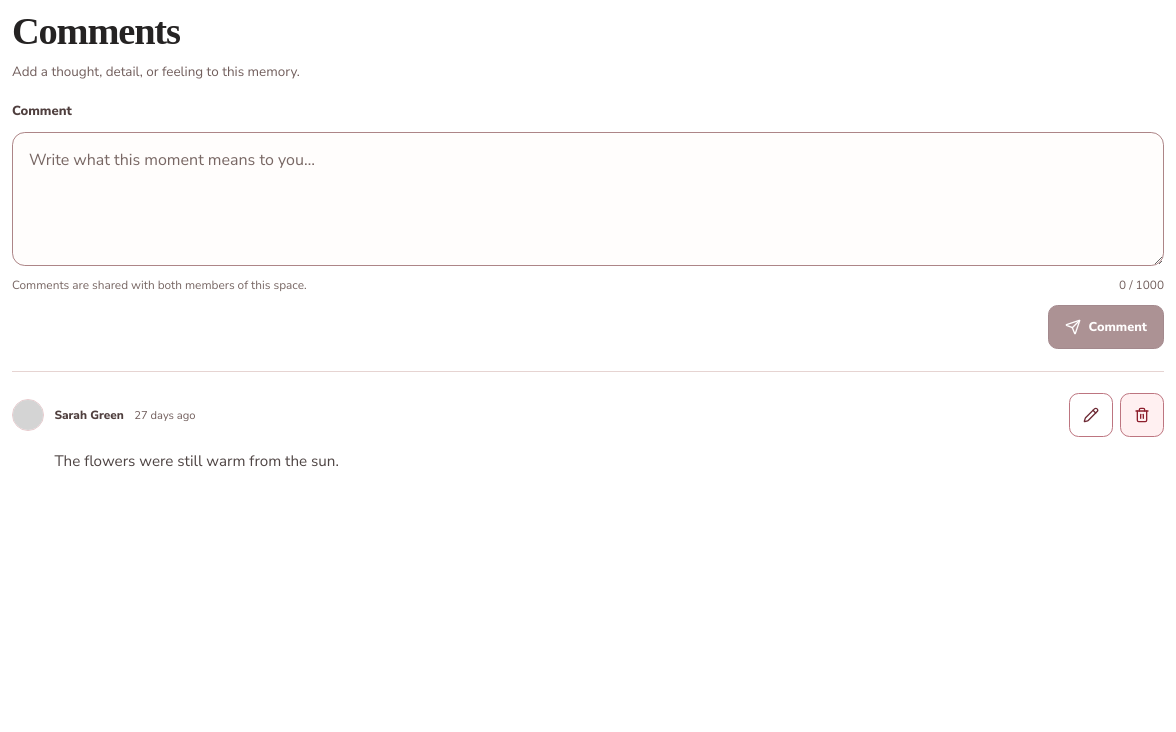
it: MemoryComments › preserves an outdated draft until the author refreshes or cancels
The image size is (1176, 732).
Click the button named "Edit". click: coordinates (1091, 415)
box: [1069, 393, 1113, 437]
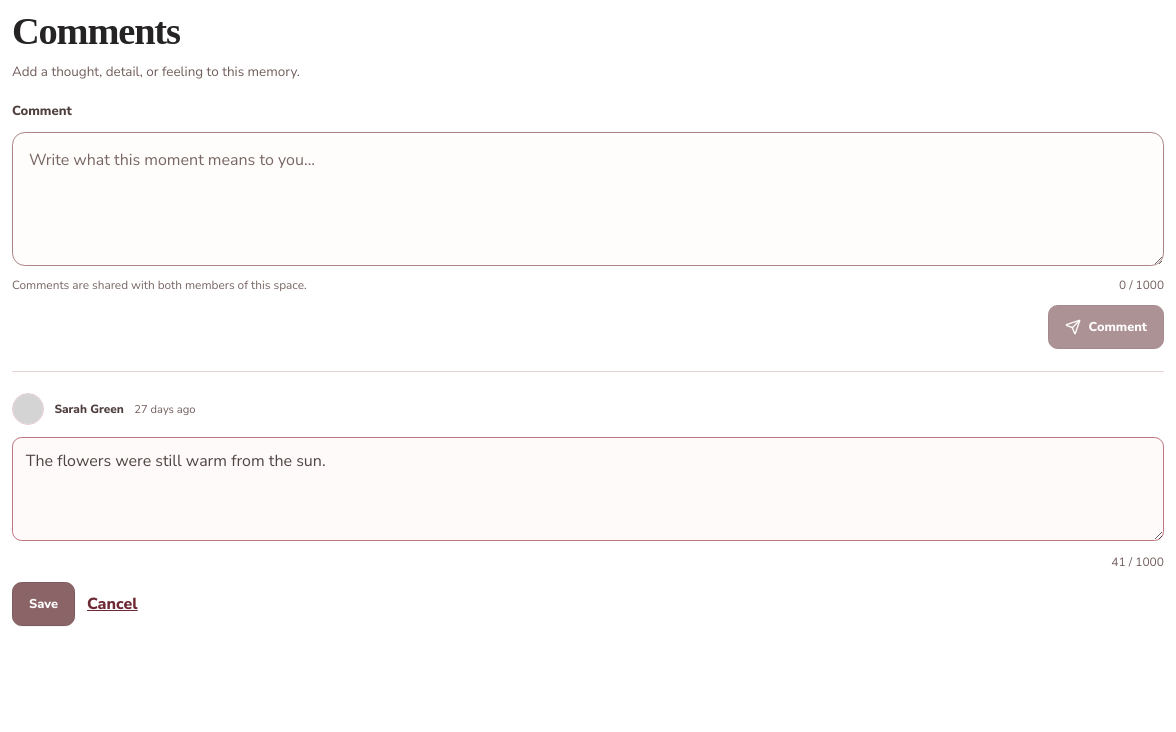
Replace the text in the text box named "Edit comment by Sarah Green" with "My preserved draft.". click: coordinates (588, 489)
box: [12, 437, 1164, 541]
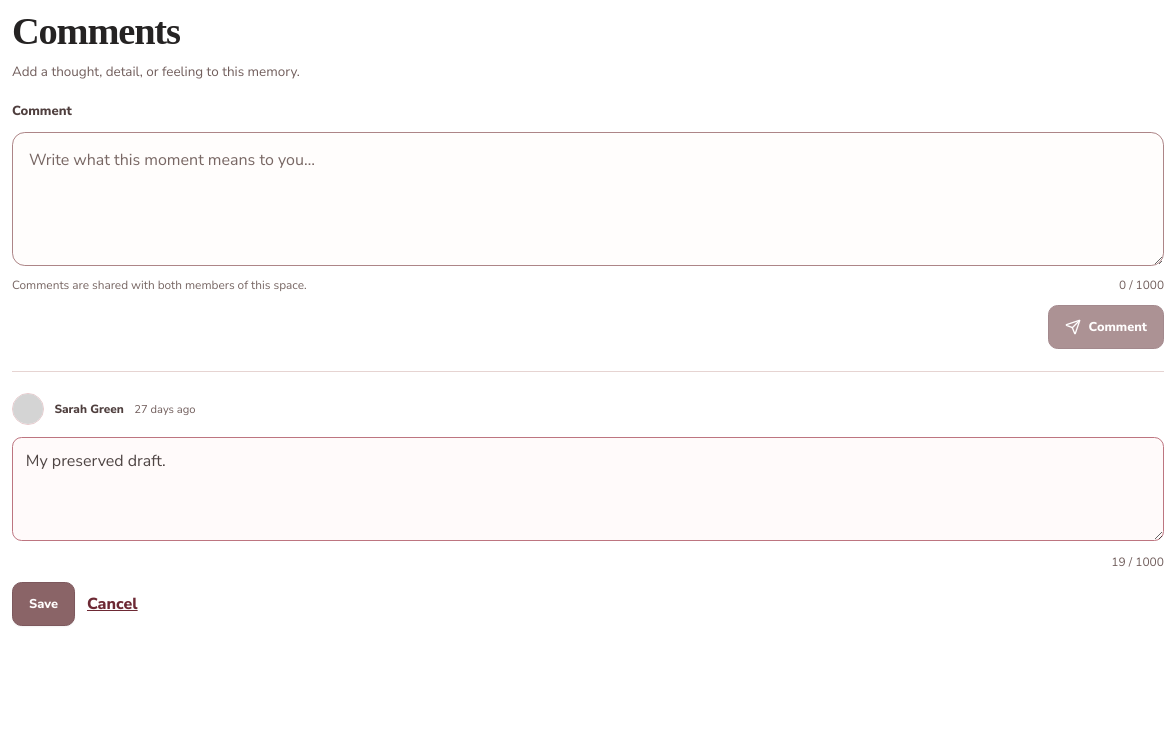
Submit the form named "Edit comment by Sarah Green", box [12, 437, 1164, 626]
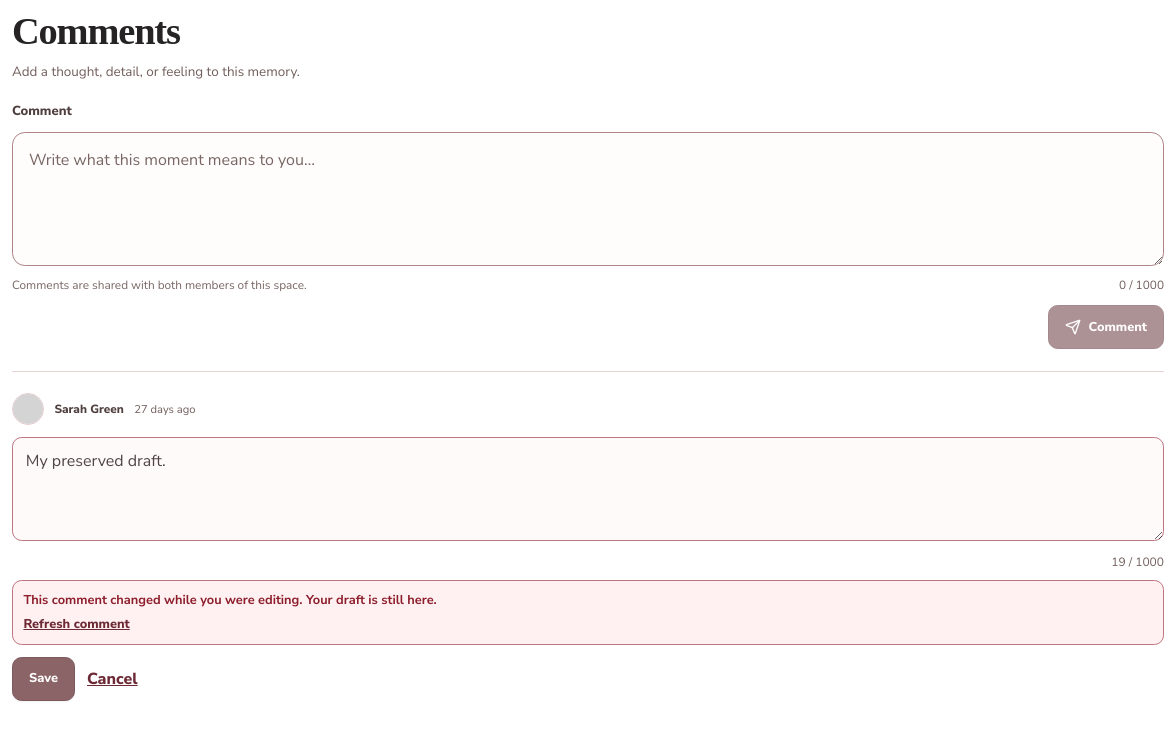
Expected: the message shows "changed while you were editing", [23, 591, 437, 609]
Click the button "Refresh comment". click: coordinates (77, 625)
box: [23, 616, 130, 634]
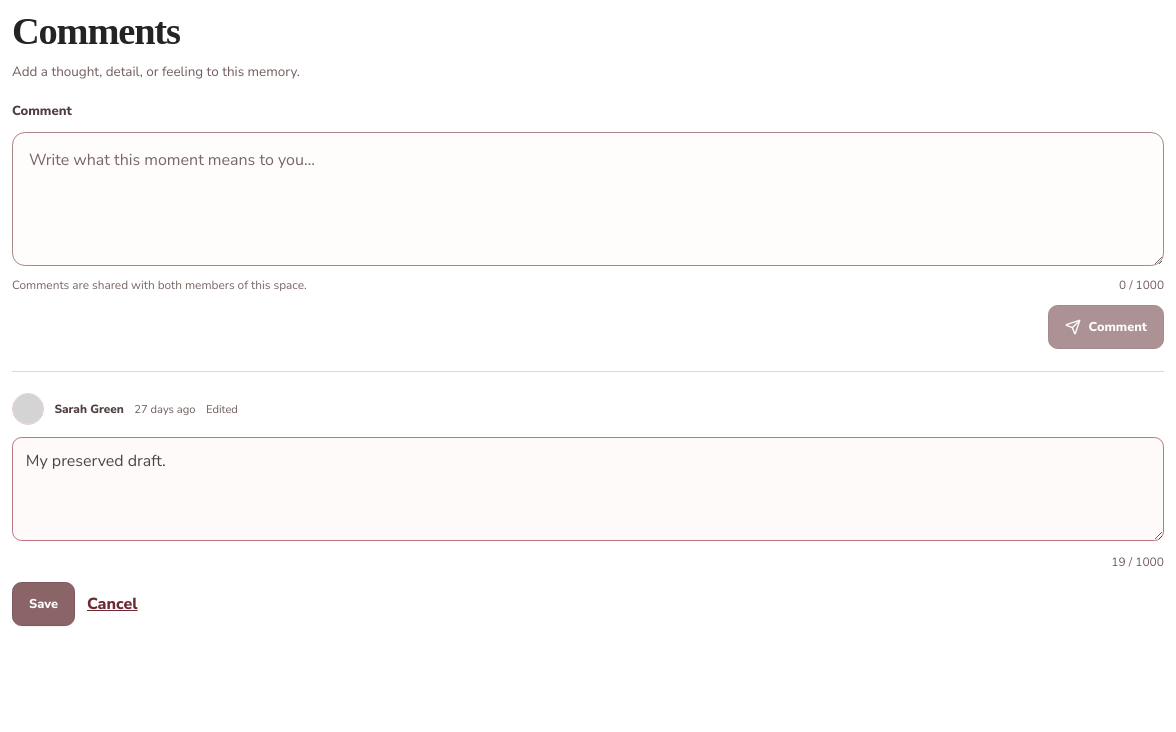
Click the button "Cancel". click: coordinates (112, 604)
box: [87, 592, 138, 616]
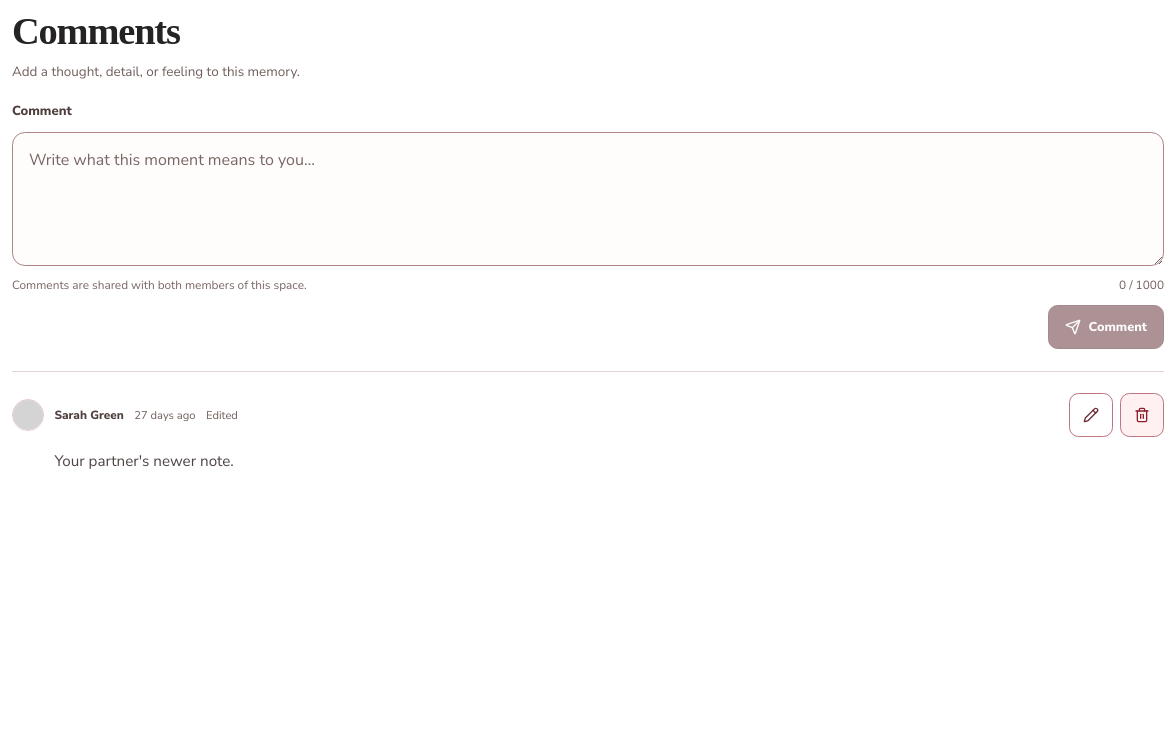
Expected: the text "Your partner's newer note." is shown, [54, 451, 234, 471]
